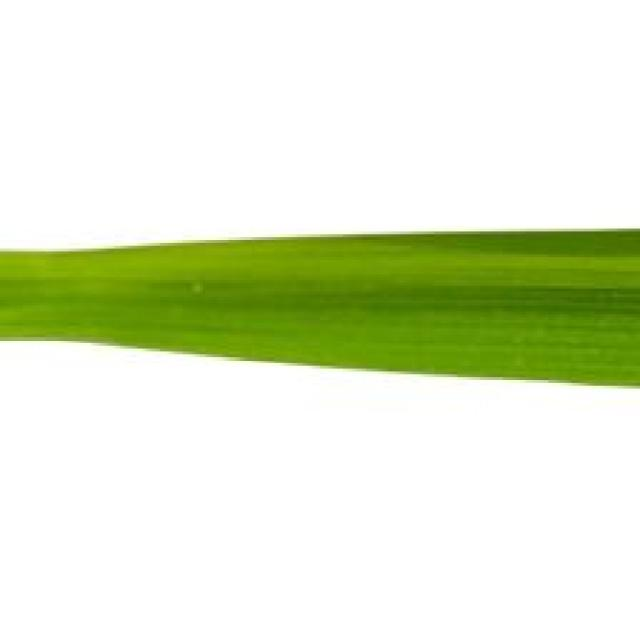Rice___Healthy_Rice_Plant: (0, 230, 637, 389)
